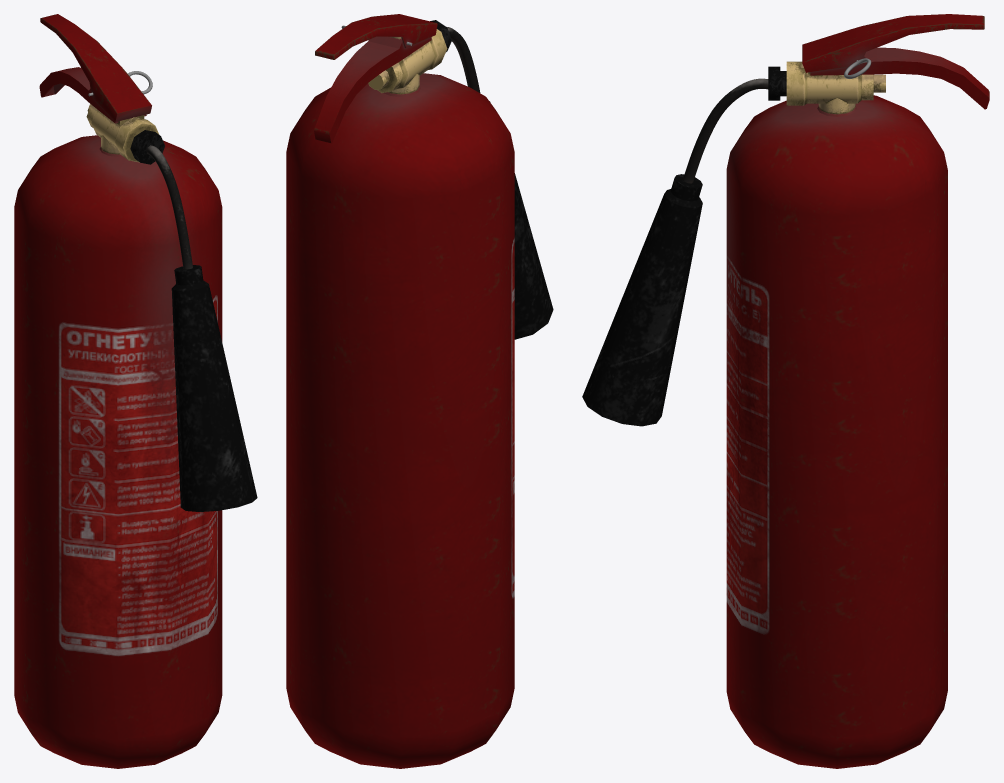
The model's file is Огнетушитель.glb.
3 renders of one model, left to right at view 1: azimuth 30°, elevation 25°; view 2: azimuth 150°, elevation 25°; view 3: azimuth 270°, elevation 25°, orthographic. The views are drawn at different scales.
Parts seen in each view (by area): view 1: tushka; view 2: tushka; view 3: tushka.
Boxes of the visible parts, x1,y1,x2,y2 form: tushka: [14, 14, 257, 768]; tushka: [286, 14, 553, 768]; tushka: [582, 14, 989, 768].
Bounding box in the file's own units: 17.35 × 63.14 × 31.94.
Materials: 1 (1 with a texture image).
